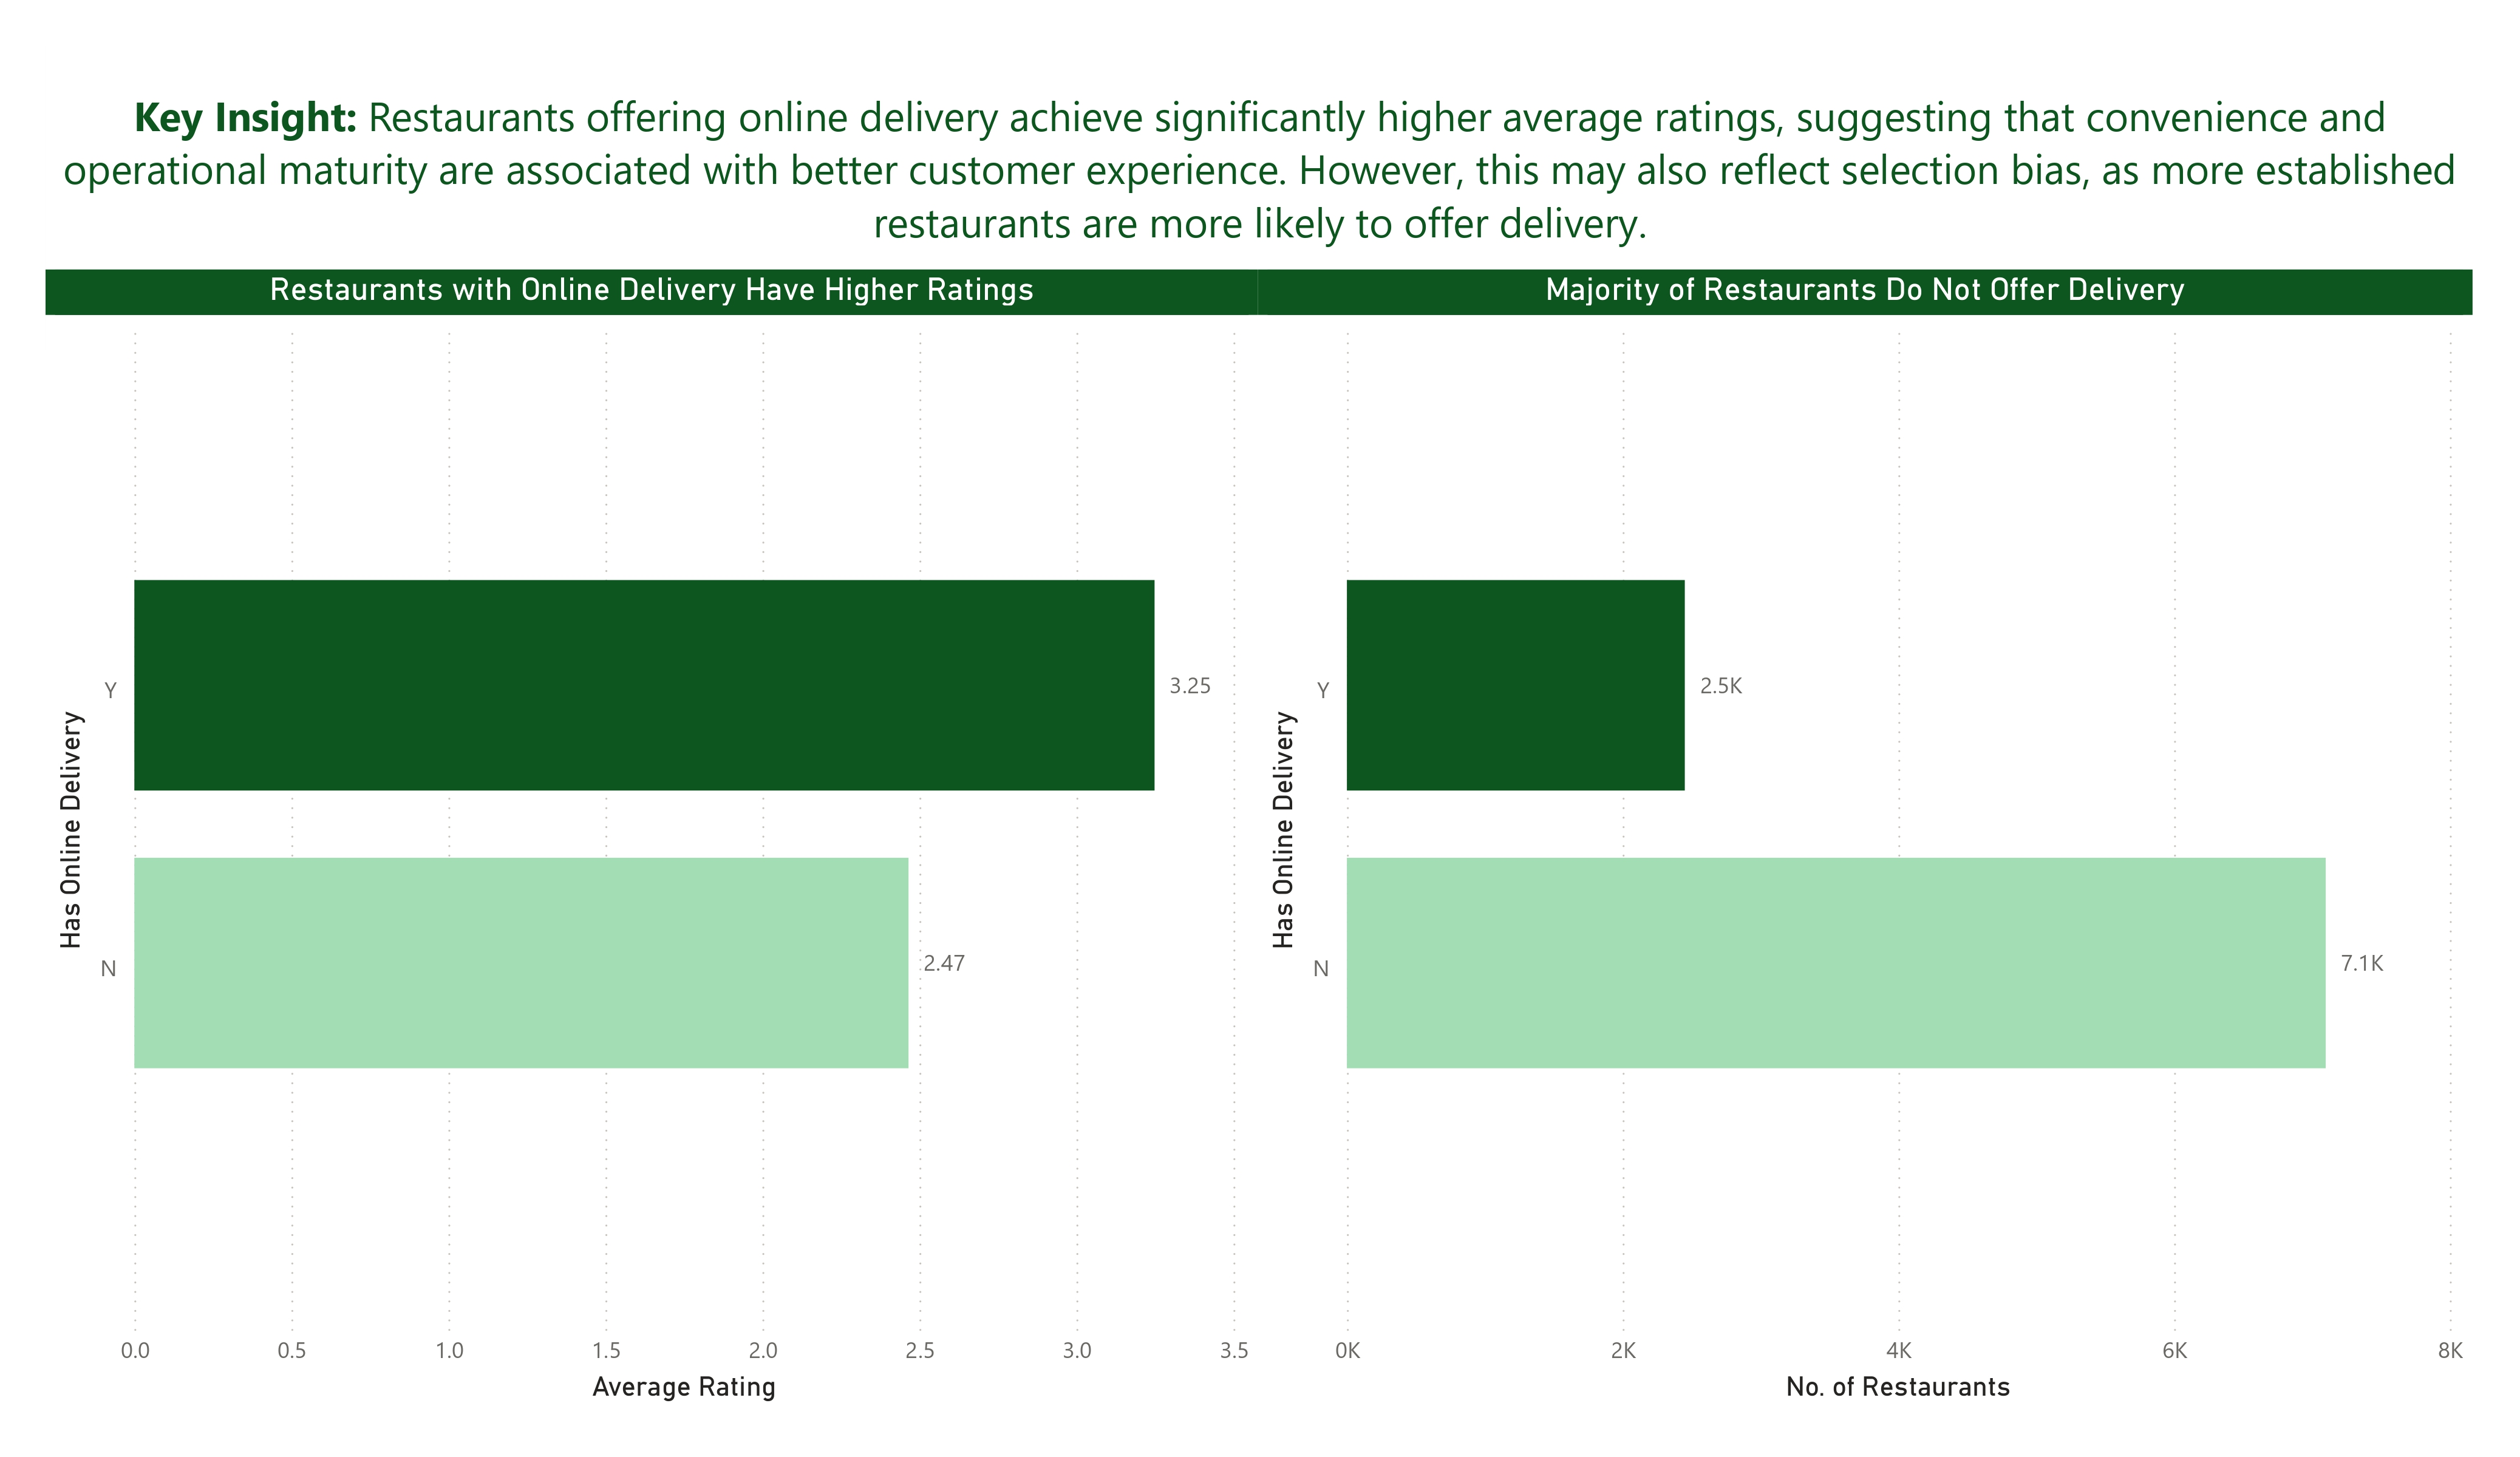

Layout of this report page (visuals, bound fields, positions):
{"tool":"powerbi","page":{"name":"Delivery & Customer Experience","canvas":[1280,720],"ordinal":3},"visuals":[{"type":"barChart","title":"Restaurants with Online Delivery Have Higher Ratings","fields":{"Category":["public zomato_analytics.has_online_delivery"],"Y":["Avg(public zomato_analytics.aggregate_rating)"]},"box":[0,118.2,639.4,602.1],"z":0},{"type":"barChart","title":"Majority of Restaurants Do Not Offer Delivery","fields":{"Category":["public zomato_analytics.has_online_delivery"],"Y":["CountNonNull(public zomato_analytics.restaurant_id)"]},"box":[639.4,118.2,639.4,602.1],"z":1},{"type":"textbox","box":[0,0,1280,118.2],"z":2}]}

Visuals, with their boxes on the page's 1280x720 design canvas (x1, y1, x2, y2). These are canvas units, not pixel positions in the 2520x1457 screenshot, which may show the page scaled, cropped or inside an application window:
"Restaurants with Online Delivery Have Higher Ratings" barChart: 0, 118, 639, 720
"Majority of Restaurants Do Not Offer Delivery" barChart: 639, 118, 1279, 720
textbox: 0, 0, 1280, 118
